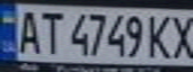4: (66, 9, 90, 56), (106, 11, 127, 57)
7: (84, 10, 109, 56)
9: (124, 11, 148, 58)
A: (12, 7, 45, 55)
K: (145, 11, 175, 60)
T: (36, 8, 66, 55)
X: (166, 11, 193, 61)
